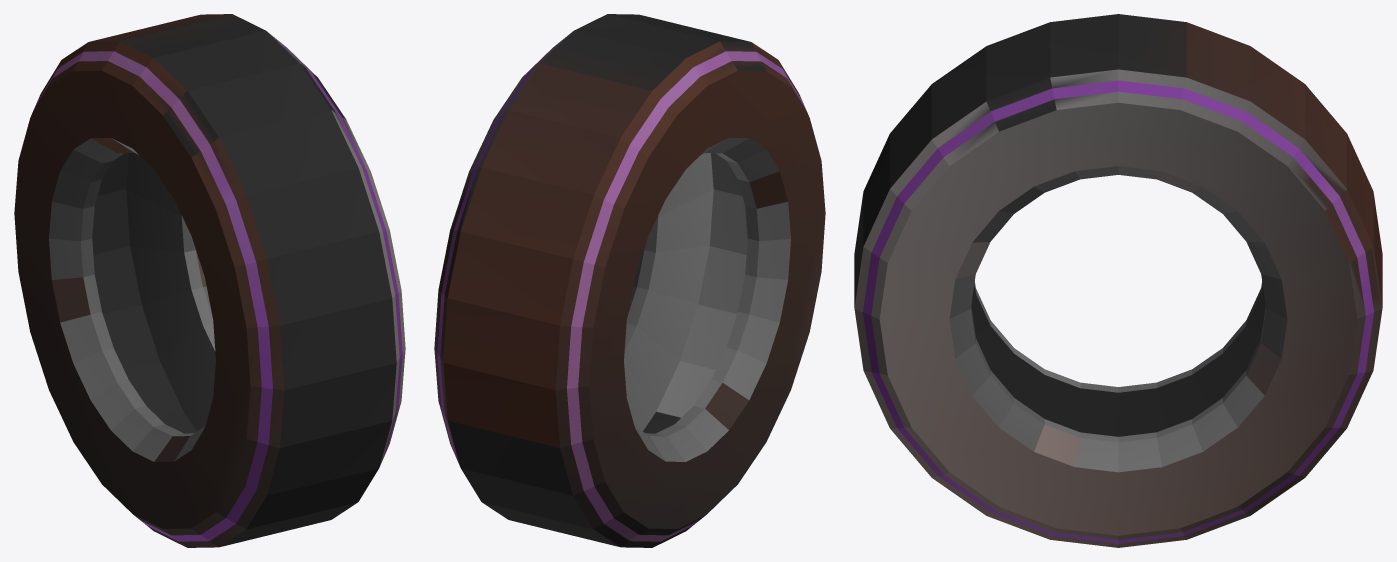
The model's file is TiresLvl4.fbx.
3 renders of one model, left to right at view 1: azimuth 30°, elevation 25°; view 2: azimuth 150°, elevation 25°; view 3: azimuth 270°, elevation 25°, orthographic.
Visible parts, largest first — view 1: tires_lvl4; view 2: tires_lvl4; view 3: tires_lvl4.
Boxes of the visible parts, x1=… form: tires_lvl4: x1=14, y1=14, x2=405, y2=547; tires_lvl4: x1=434, y1=14, x2=825, y2=547; tires_lvl4: x1=854, y1=14, x2=1382, y2=547.
Bounding box in the file's own units: 0.3428 × 1 × 1.
